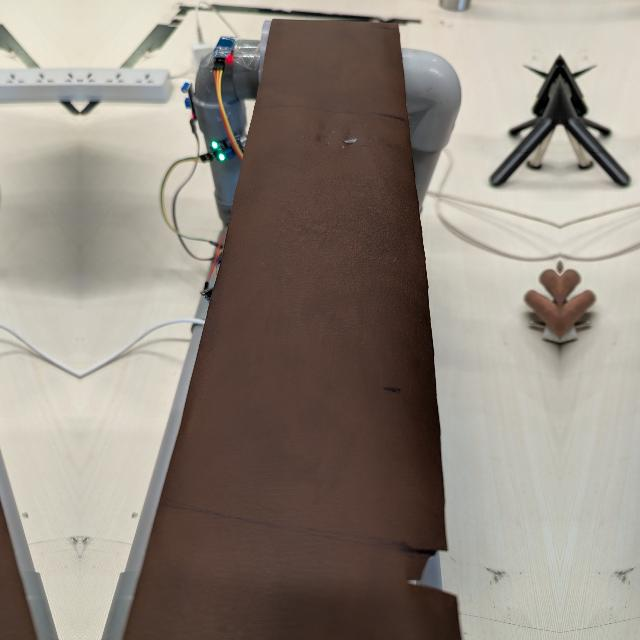belt_crack: (283, 101, 396, 163)
belt_tear: (396, 513, 473, 603)
